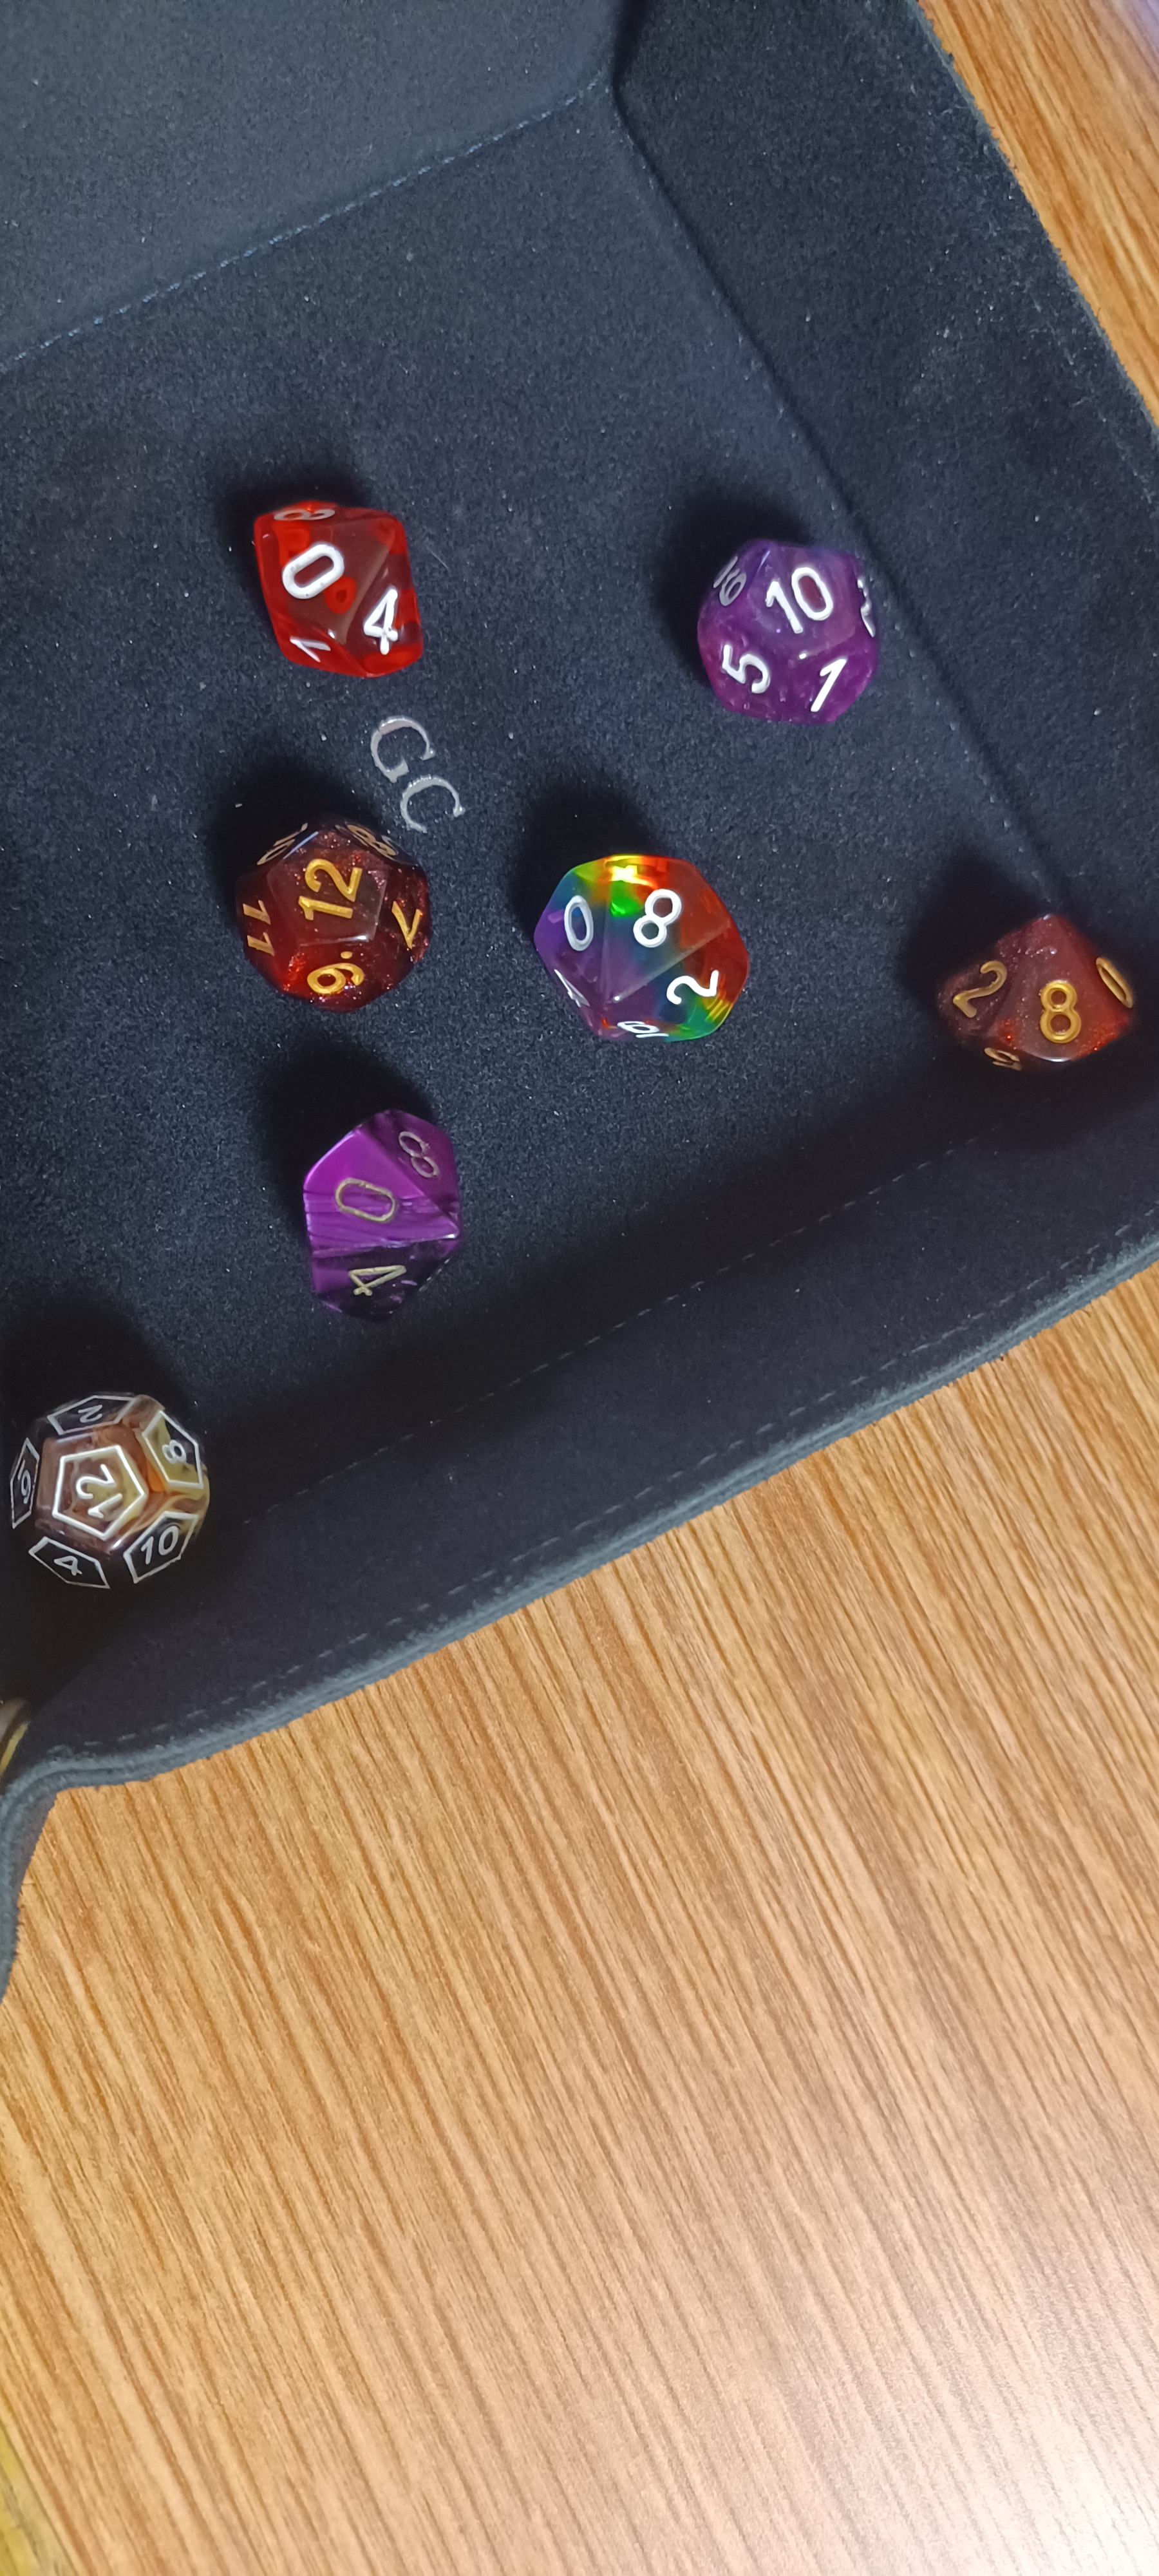eight: (494, 800, 804, 1106), (895, 861, 1141, 1127)
ten: (650, 521, 923, 757)
twelve: (182, 779, 471, 1038), (10, 1352, 236, 1603)
zero: (230, 1063, 527, 1352), (189, 465, 486, 713)
